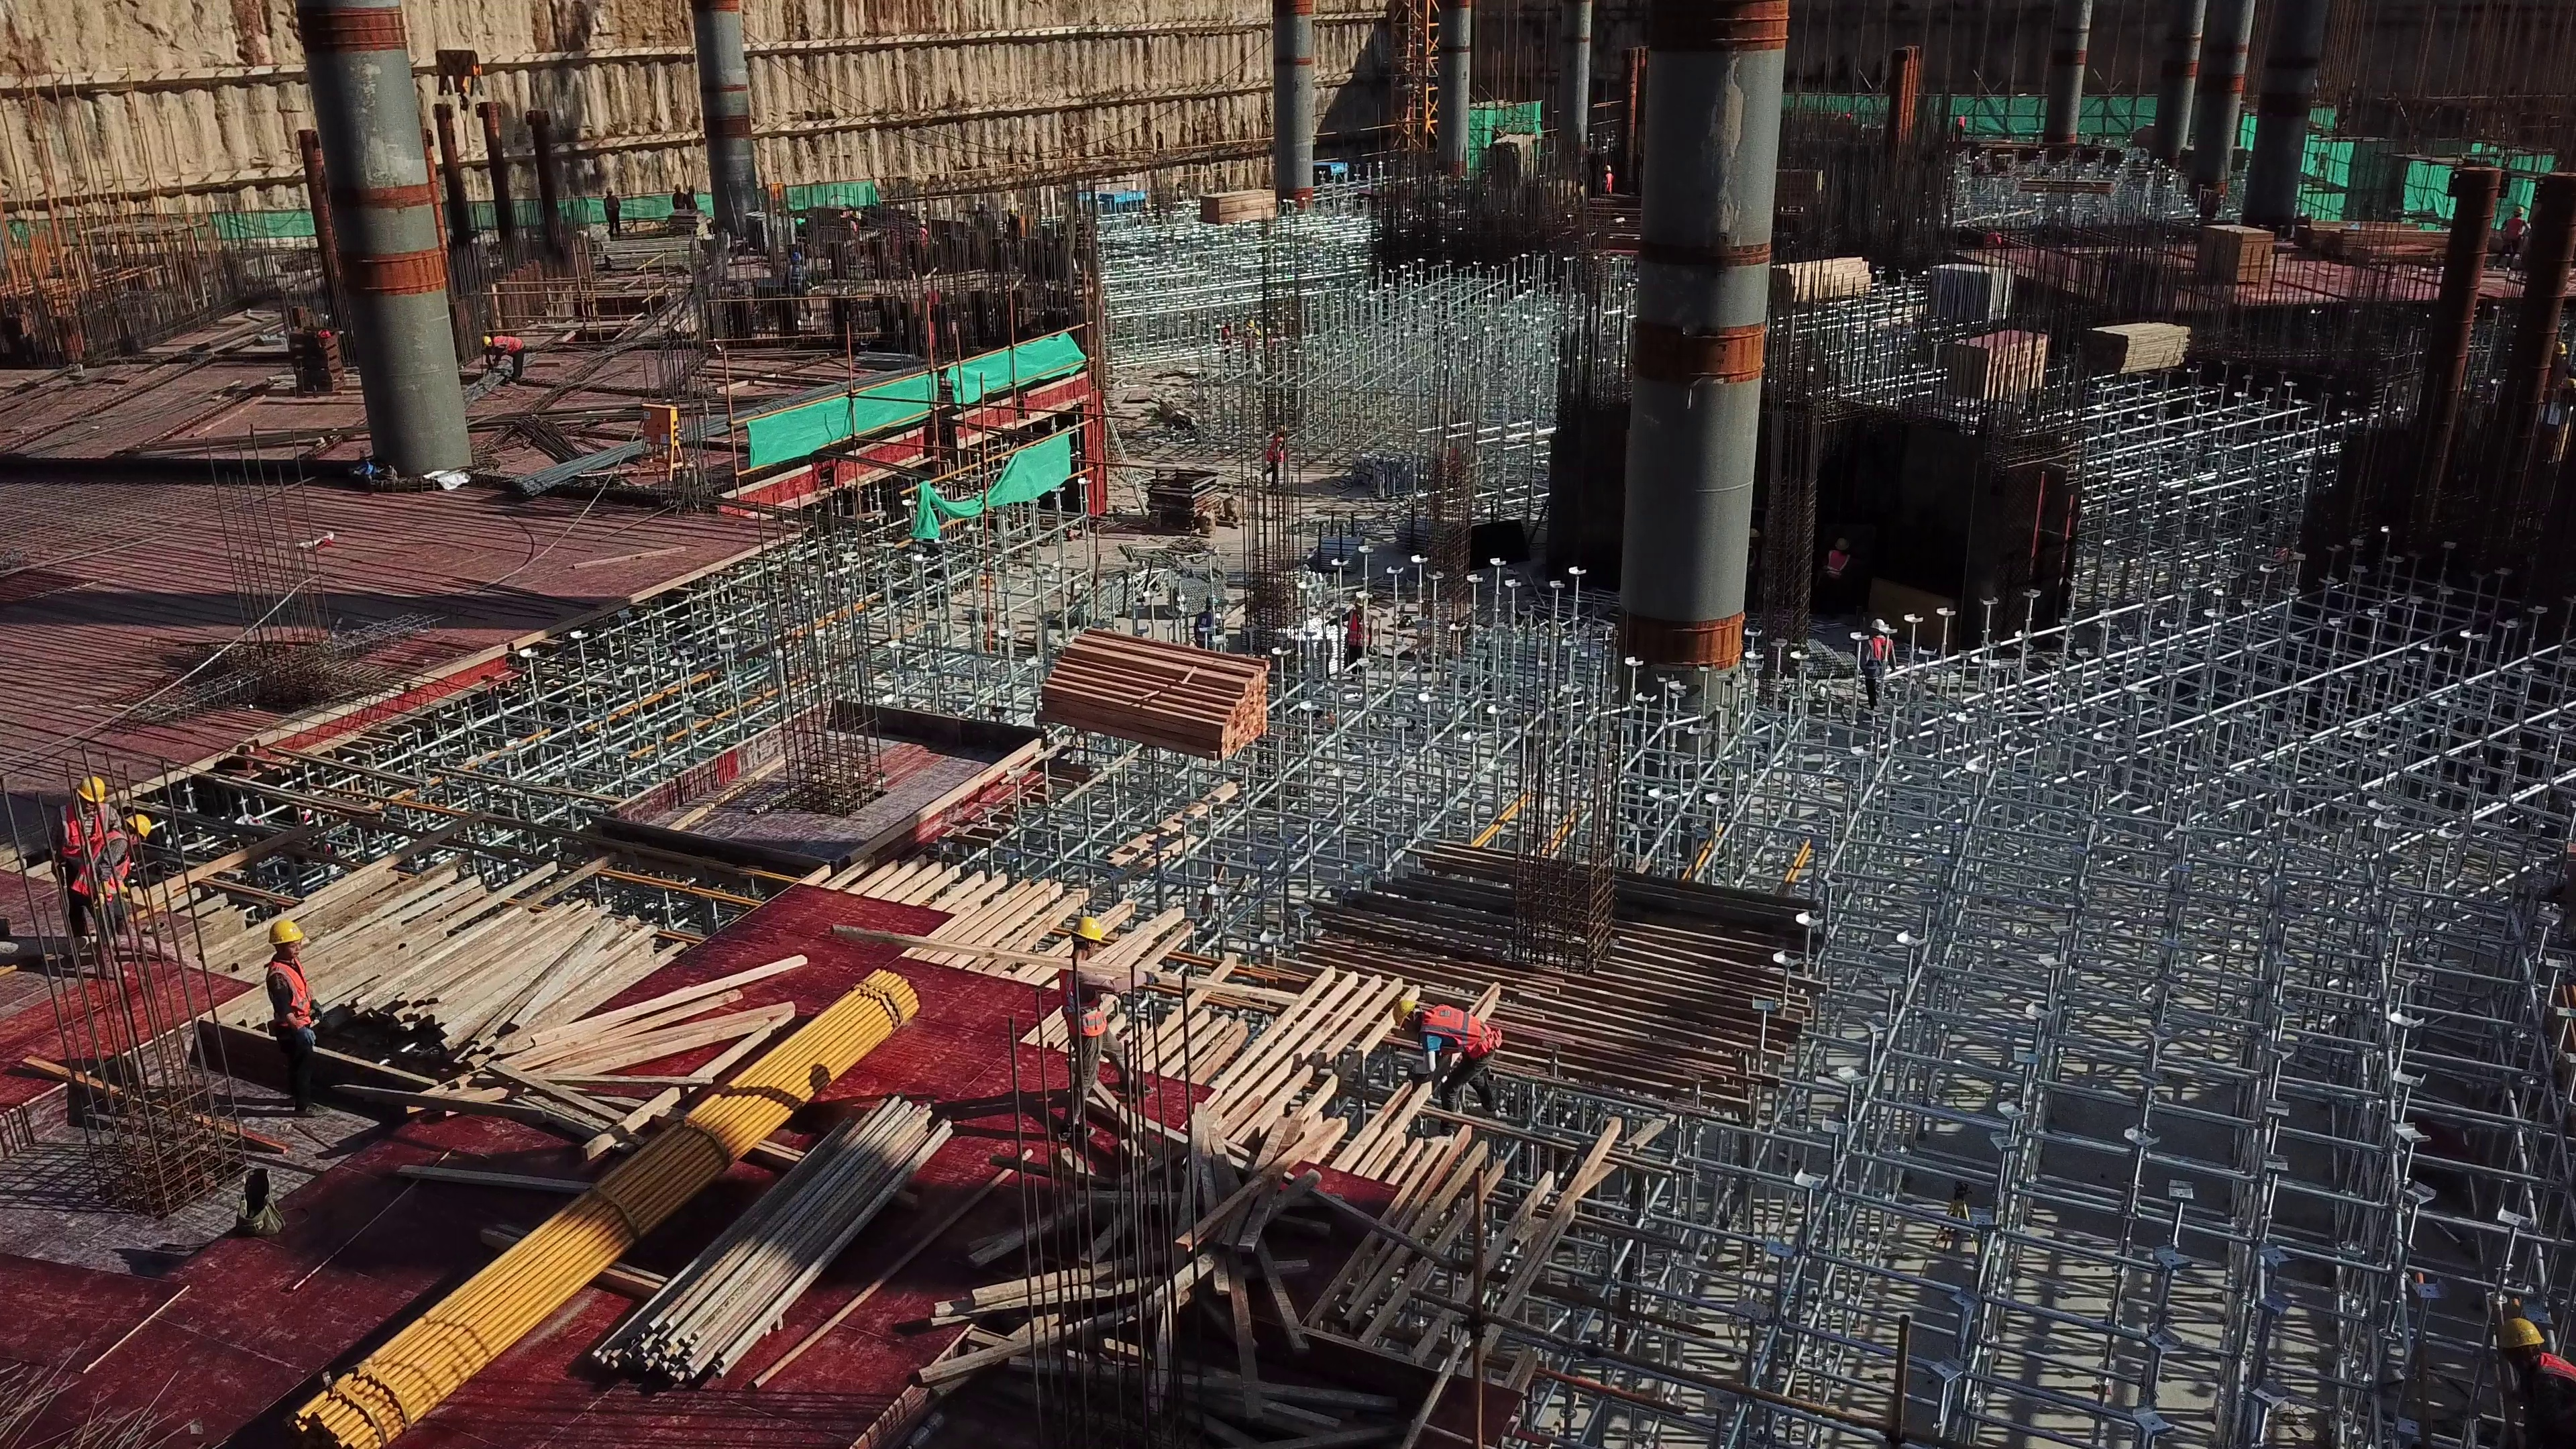helmet: (2496, 1313, 2542, 1355), (267, 918, 308, 949), (1069, 913, 1103, 947), (72, 776, 109, 806), (1393, 998, 1423, 1028), (123, 811, 152, 839), (1205, 595, 1217, 608), (1872, 617, 1883, 633), (2556, 341, 2567, 357), (481, 334, 492, 346), (2515, 209, 2526, 219), (1605, 162, 1611, 172)
person: (1057, 916, 1159, 1134), (72, 813, 155, 982), (267, 918, 335, 1120), (1392, 999, 1508, 1120), (48, 776, 115, 953), (2496, 1314, 2575, 1449), (1320, 588, 1376, 680), (1858, 617, 1898, 709), (2492, 205, 2530, 274), (2546, 337, 2574, 421), (781, 251, 811, 326), (481, 335, 525, 383), (1191, 595, 1228, 650), (1824, 535, 1852, 606), (1260, 424, 1287, 489), (602, 188, 621, 239), (915, 218, 933, 263), (1746, 523, 1758, 586), (1218, 325, 1230, 364), (1599, 164, 1613, 197), (684, 183, 696, 209), (672, 183, 684, 209), (1954, 114, 1966, 137)
vest: (73, 828, 129, 905), (268, 952, 322, 1027), (1424, 1006, 1499, 1058), (1057, 966, 1106, 1041), (58, 802, 111, 855), (2538, 1350, 2576, 1393), (1827, 550, 1850, 584), (1351, 609, 1368, 645), (494, 334, 525, 354), (1195, 610, 1216, 643), (1872, 637, 1890, 667), (1269, 435, 1285, 464), (789, 263, 804, 288), (2507, 216, 2522, 240), (1603, 172, 1611, 194), (604, 197, 619, 209), (1956, 114, 1964, 125)
